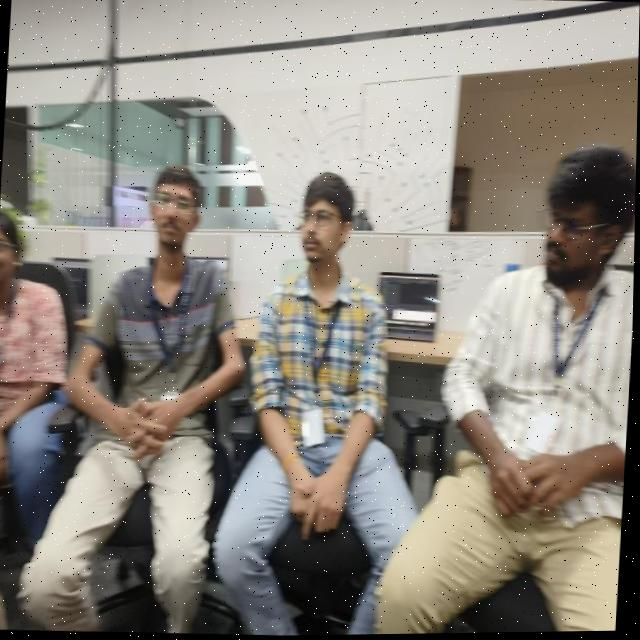id_card: (524, 282, 609, 454), (130, 259, 204, 409), (288, 283, 346, 465)
